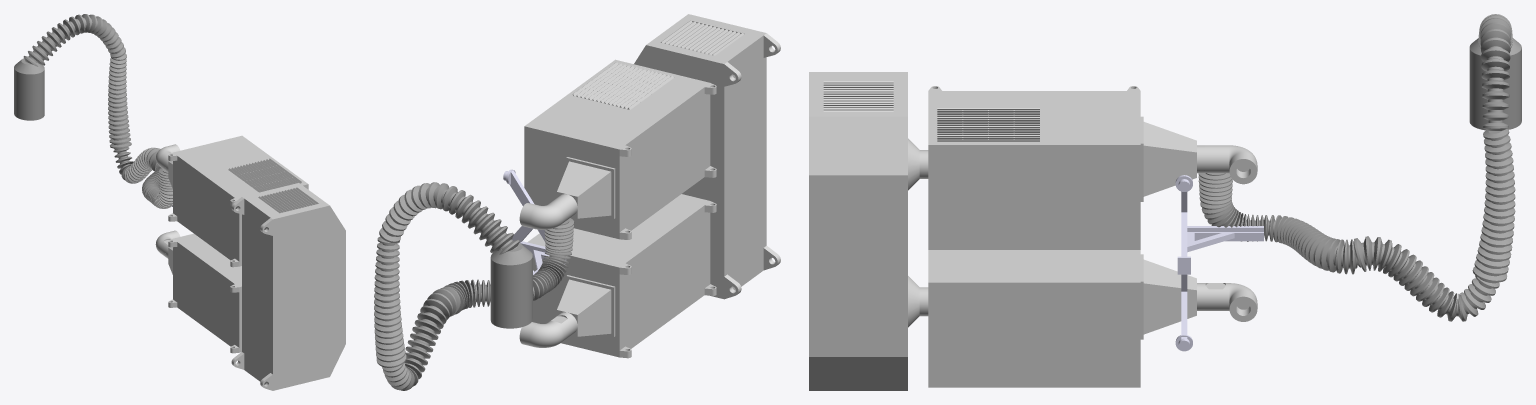
The model's file is ECS-v3.glb.
3 views of the same model, side by side, from view 1: azimuth 30°, elevation 25°; view 2: azimuth 150°, elevation 25°; view 3: azimuth 270°, elevation 25° (orthographic). The views are drawn at different scales.
Visible parts, largest first — view 1: ECS_node; view 2: ECS_node; view 3: ECS_node.
Boxes of the visible parts, box(x1,y1,x2,y2) form: ECS_node: box(14, 14, 345, 390); ECS_node: box(374, 14, 780, 390); ECS_node: box(809, 14, 1521, 390).
Size of the model in its own units: 0.0365 by 0.0647 by 0.1224.
